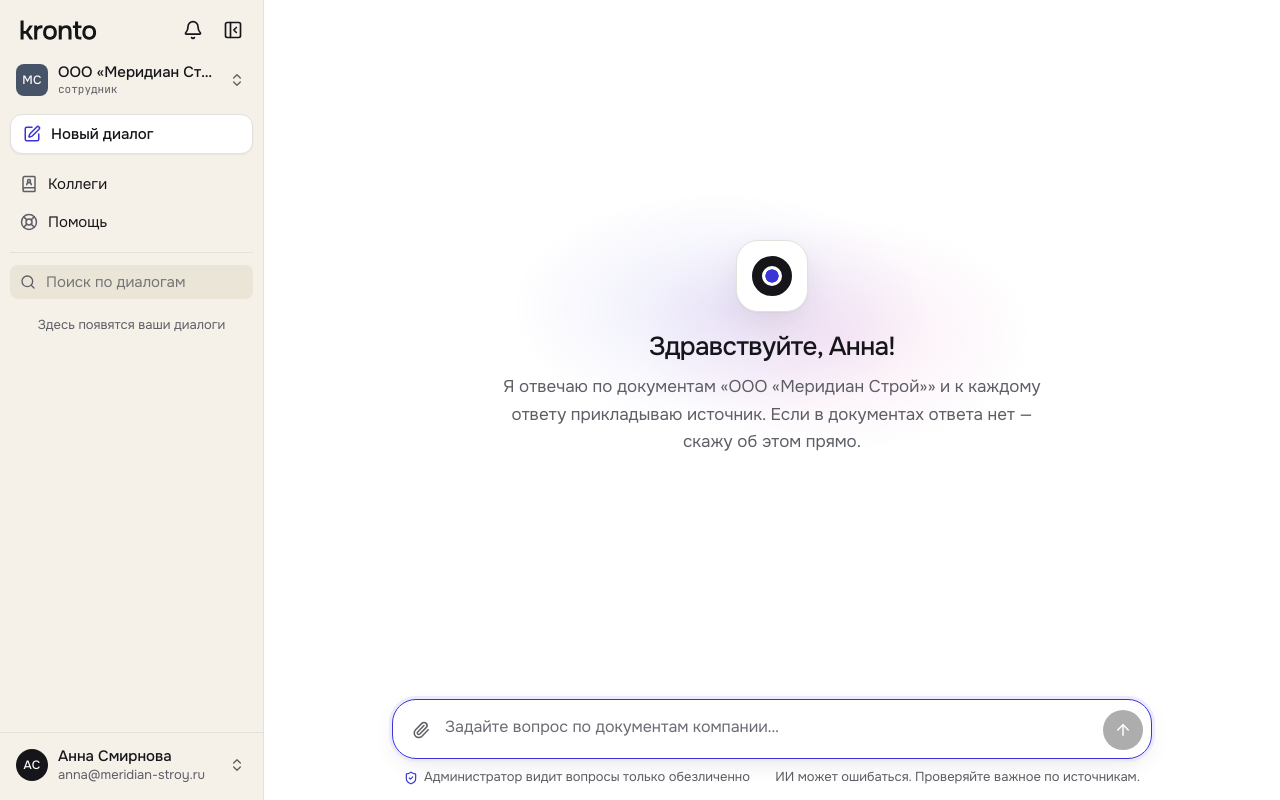
Test: новый диалог › кто-то уже попросил пополнить — «Администратор уже уведомлён»
Type "Вопрос" into the text box named "Ваш вопрос" at (772, 729), box 393,700 -> 1151,758
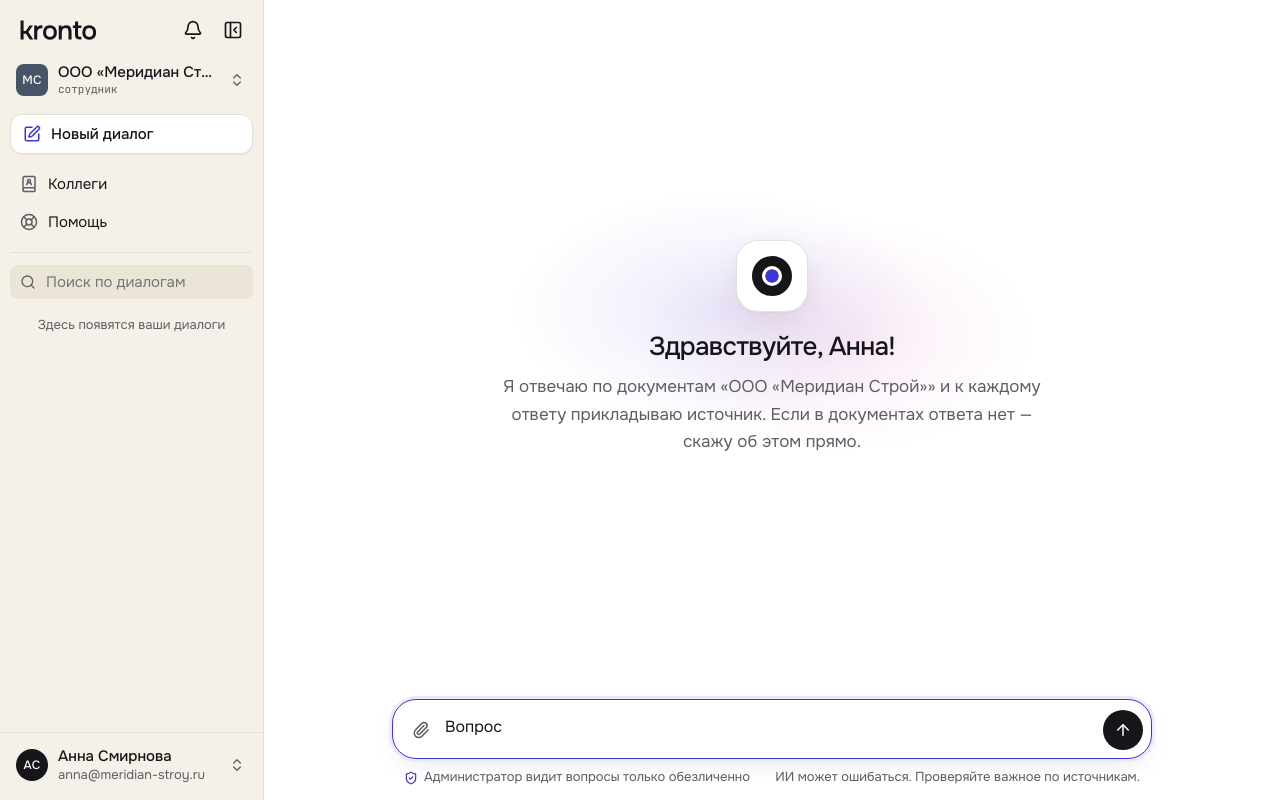
Press Enter
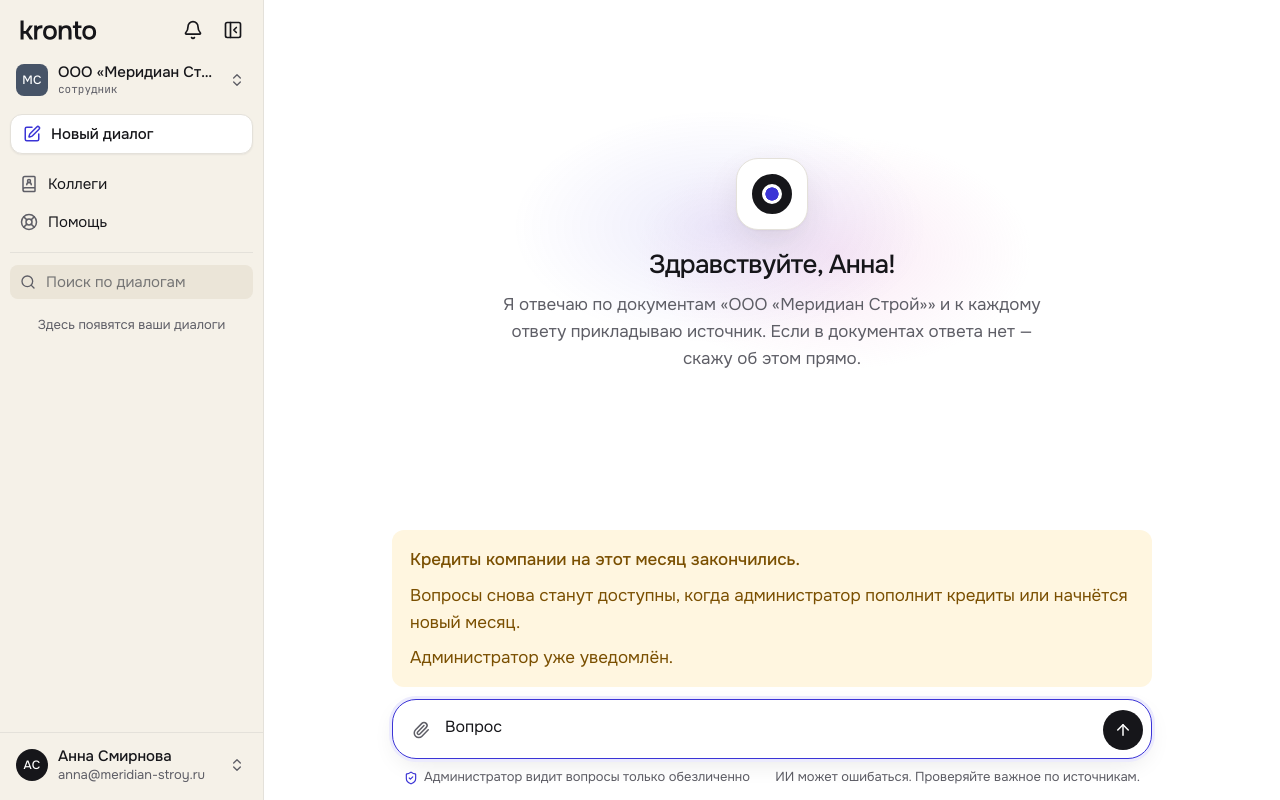
Now the text "Администратор уже уведомлён." is shown, box 410,644 -> 673,671
